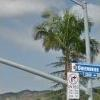Palm tree: (32, 4, 89, 73)
